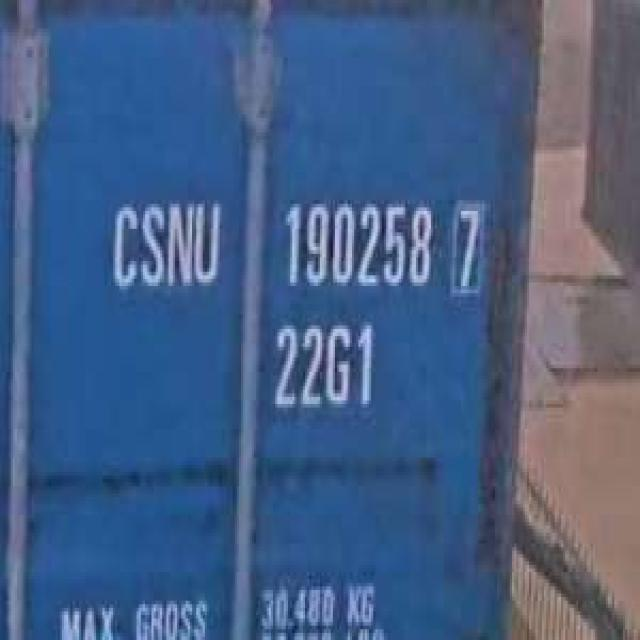dv: (448, 193, 489, 297)
owner: (105, 186, 224, 300)
serial: (275, 190, 435, 300)
size: (266, 311, 379, 418)
